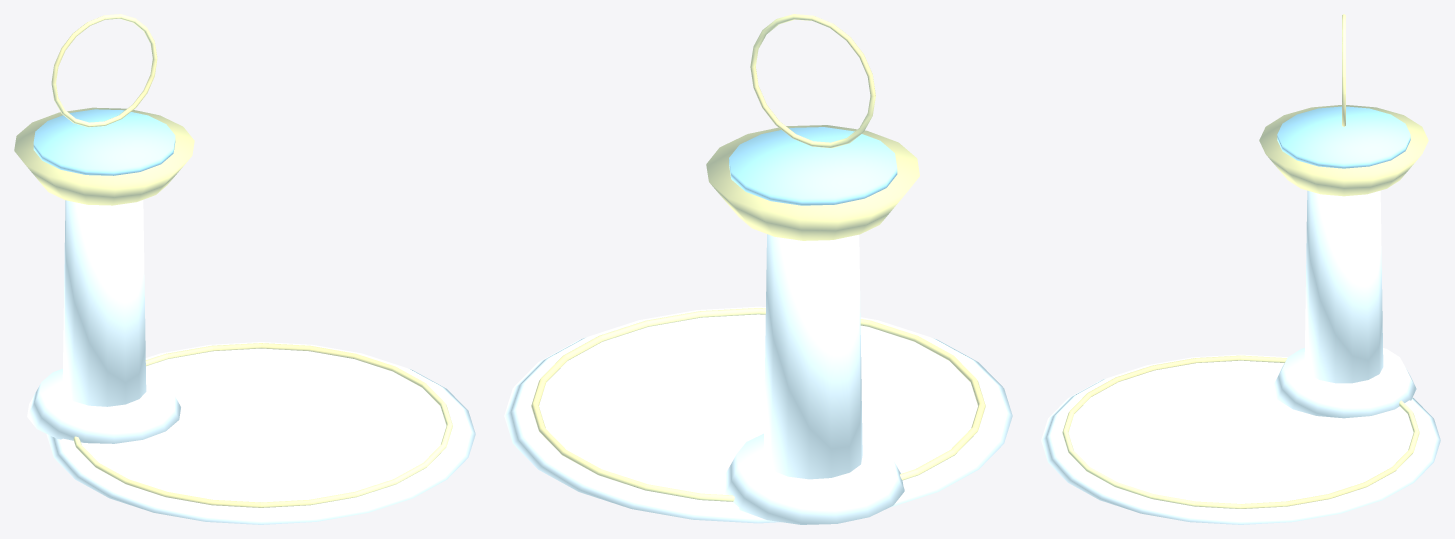
File: sanctuary-altar-pedestal.glb
3 views of the same model, side by side, from view 1: azimuth 30°, elevation 25°; view 2: azimuth 150°, elevation 25°; view 3: azimuth 270°, elevation 25° (orthographic). The views are drawn at different scales.
Visible parts, largest first — view 1: TS_StageProp_sanctuary-altar-pedestal; view 2: TS_StageProp_sanctuary-altar-pedestal; view 3: TS_StageProp_sanctuary-altar-pedestal.
Part boxes in pixels (bbox=[...]): TS_StageProp_sanctuary-altar-pedestal: bbox=[14, 14, 475, 524]; TS_StageProp_sanctuary-altar-pedestal: bbox=[504, 14, 1012, 524]; TS_StageProp_sanctuary-altar-pedestal: bbox=[1041, 14, 1440, 524].
Bounding box in the file's own units: 1.32 × 1.37 × 1.32.
1 material, 1 textured.
